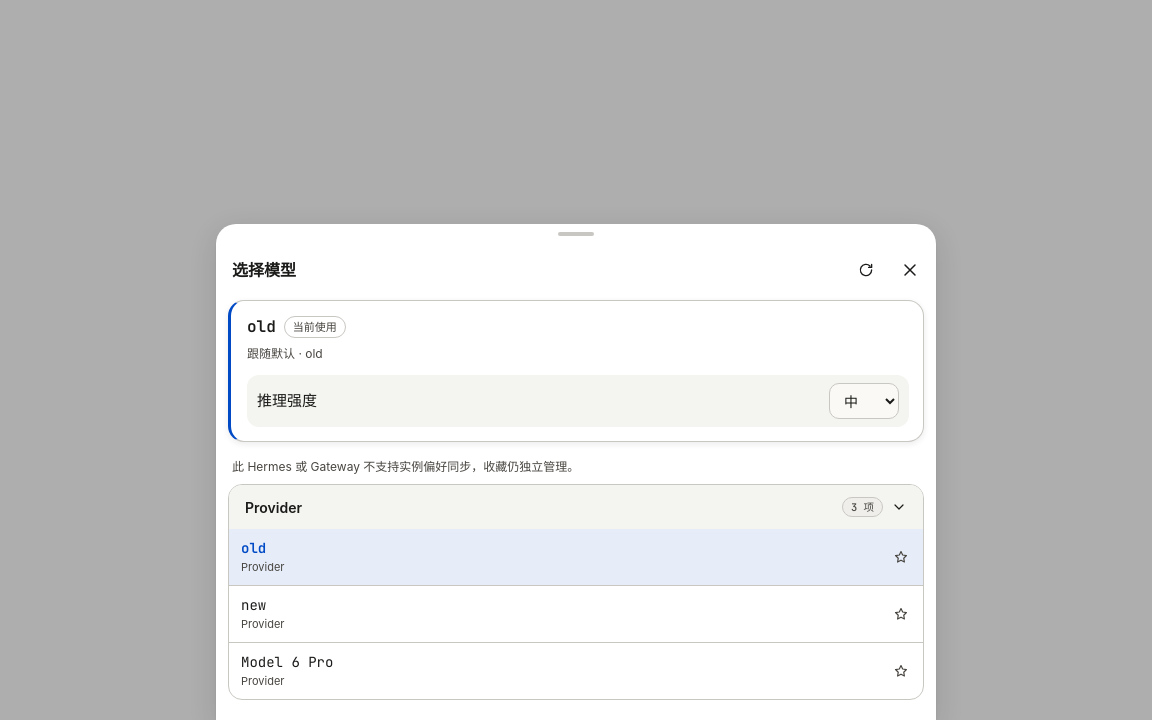
Scenario: warnings update the canonical applied model but retain the sheet and hide raw upstream text
Click the button with class "model-pick" showing "new Provider".
click(263, 624)  # box [241,586,879,642]
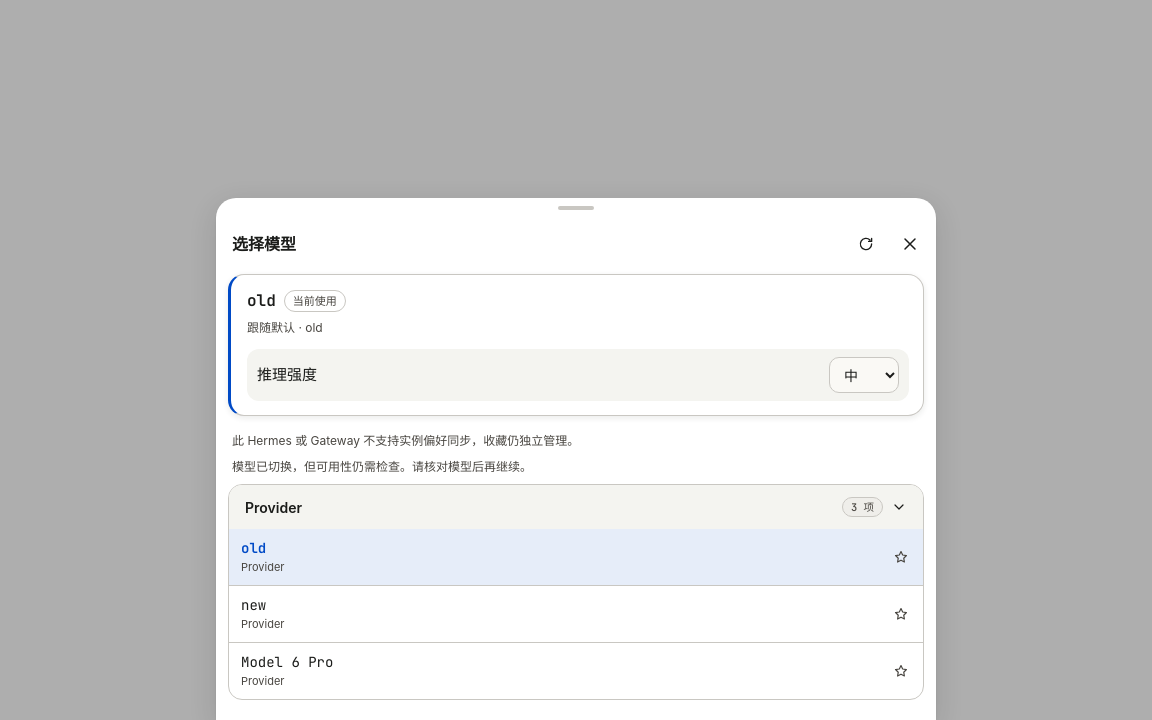
Result: the text "可用性仍需检查" is shown at [232,459,532,474]
